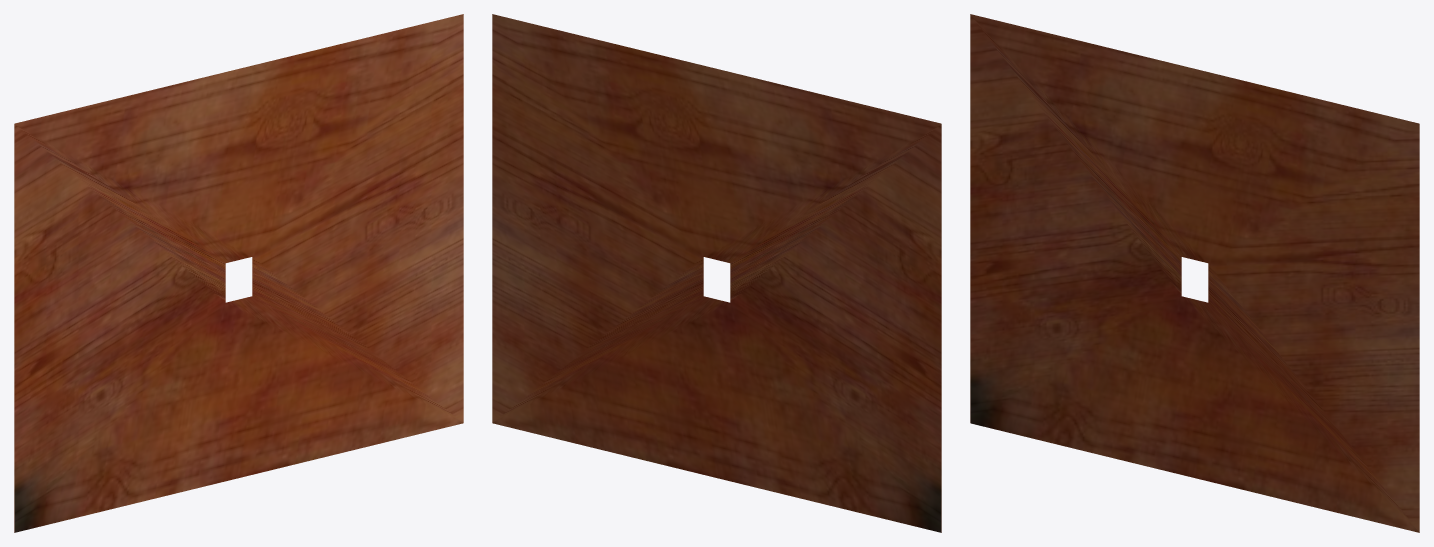
The model's file is portalhider.glb.
3 views of the same model, side by side, from view 1: azimuth 30°, elevation 25°; view 2: azimuth 150°, elevation 25°; view 3: azimuth 330°, elevation 25° (orthographic).
Parts seen in each view (by area): view 1: Cube.002; view 2: Cube.002; view 3: Cube.002.
Boxes of the visible parts, x1,y1,x2,y2 form: Cube.002: [14, 14, 463, 532]; Cube.002: [492, 14, 941, 532]; Cube.002: [970, 14, 1419, 532].
Bounding box in the file's own units: 20.02 × 17.42 × 0.
Materials: 1 (1 with a texture image).
